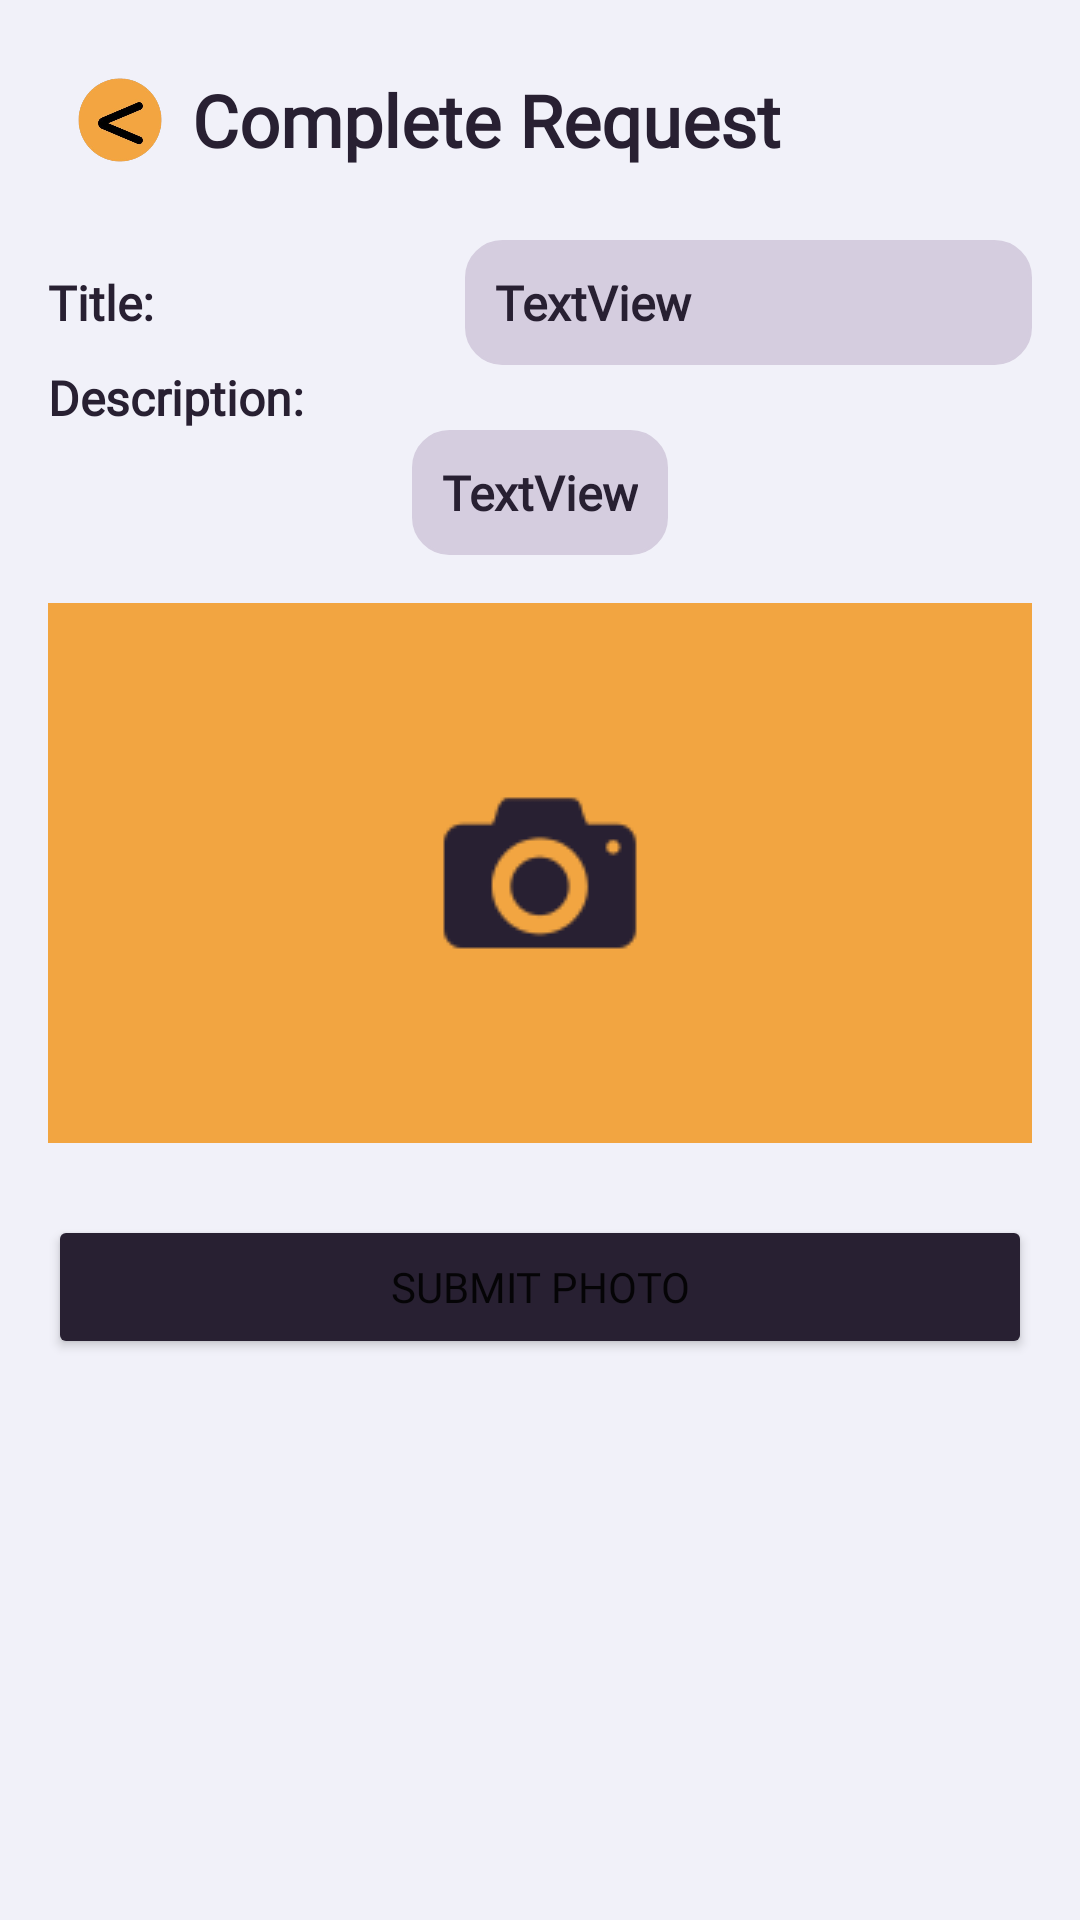

Screen size 1080*1920. Icon name, then its box in pixels as (x1, y1, x2, y2):
Back Button: (78, 78, 162, 162)
